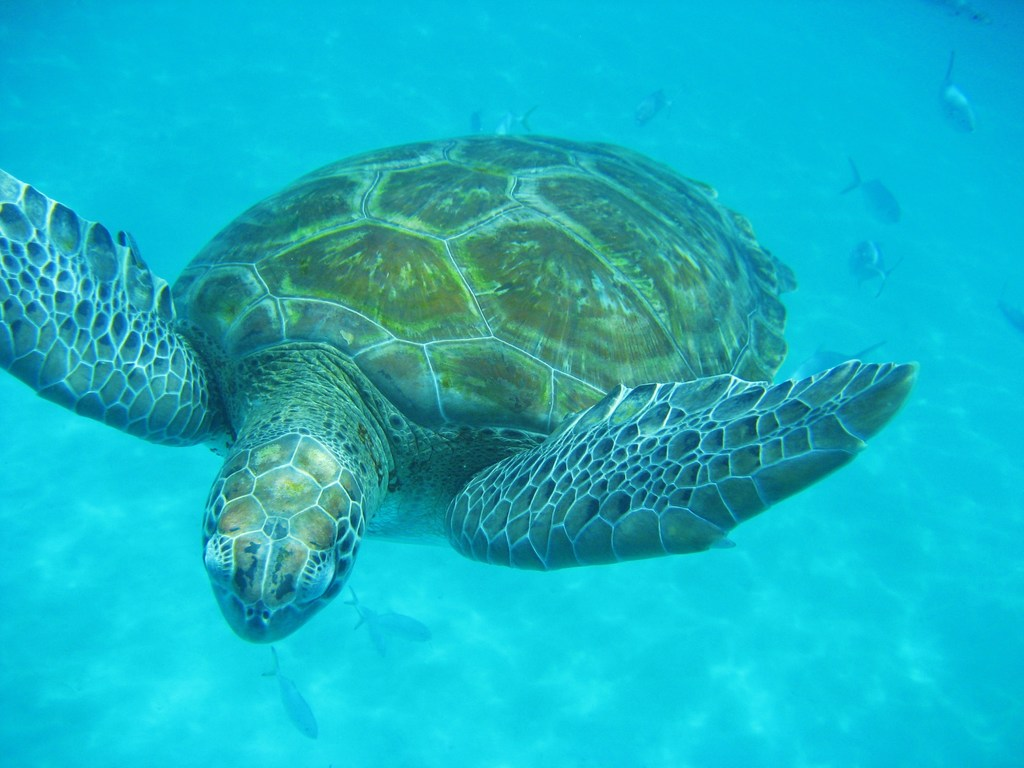Sea turtles: (0, 125, 926, 645)
